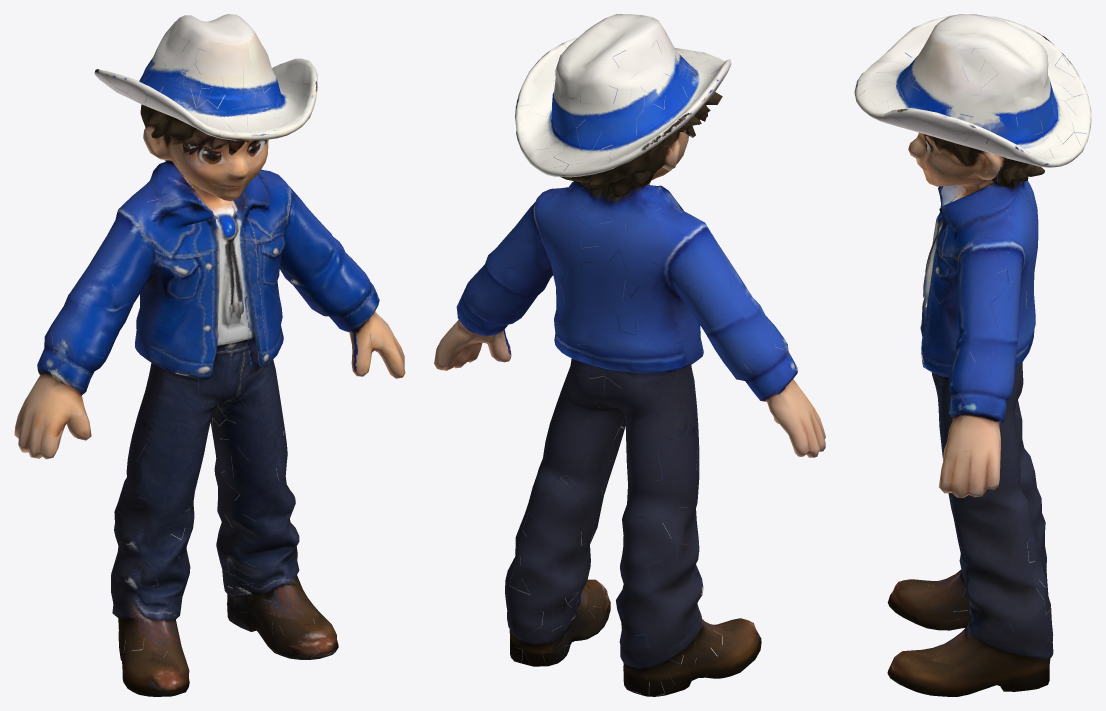
Rendered from finn.glb.
The picture shows the model from 3 angles, left to right: view 1: azimuth 30°, elevation 25°; view 2: azimuth 150°, elevation 25°; view 3: azimuth 270°, elevation 25°; orthographic projection.
Parts seen in each view (by area): view 1: geometry_0; view 2: geometry_0; view 3: geometry_0.
Part boxes in pixels (left/top/right/bottom): geometry_0: left=14, top=14, right=405, bottom=696; geometry_0: left=434, top=14, right=825, bottom=696; geometry_0: left=854, top=14, right=1091, bottom=696.
Size of the model in its own units: 1.24 by 1.99 by 0.6781.
1 material, 1 textured.
